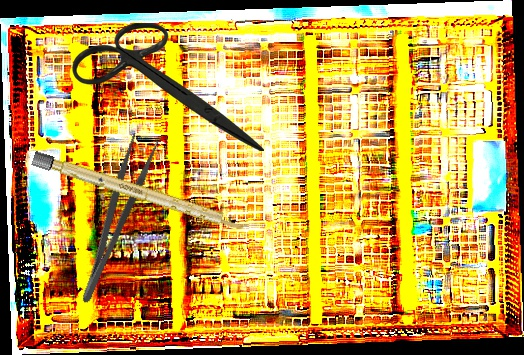Dressing Forceps: (64, 130, 162, 306)
Iris Scissors: (72, 23, 264, 151)
Scalpel Handle: (31, 150, 249, 235)
